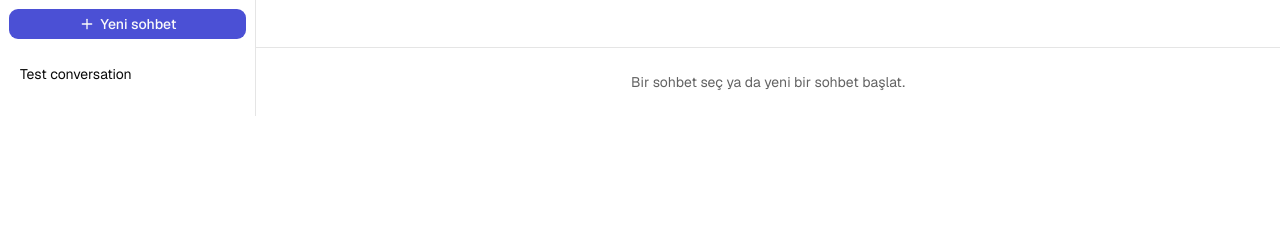
Test: ChatView › never renders raw HTML, images or javascript: links from a reply
This screenshot has width=1280, height=232.
Click the button "Test conversation": (128, 74) x1=8 y1=56 x2=247 y2=92
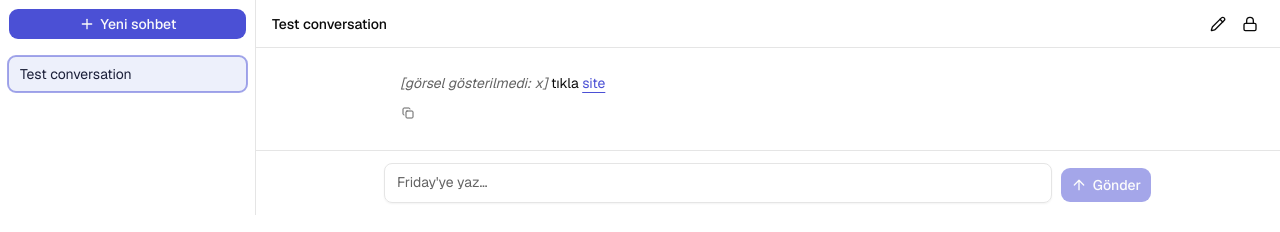
Result: the text box with placeholder "Friday'ye yaz…" is shown at x1=384 y1=163 x2=1052 y2=203
Result: the number of links is 1 at x1=582 y1=74 x2=605 y2=92
